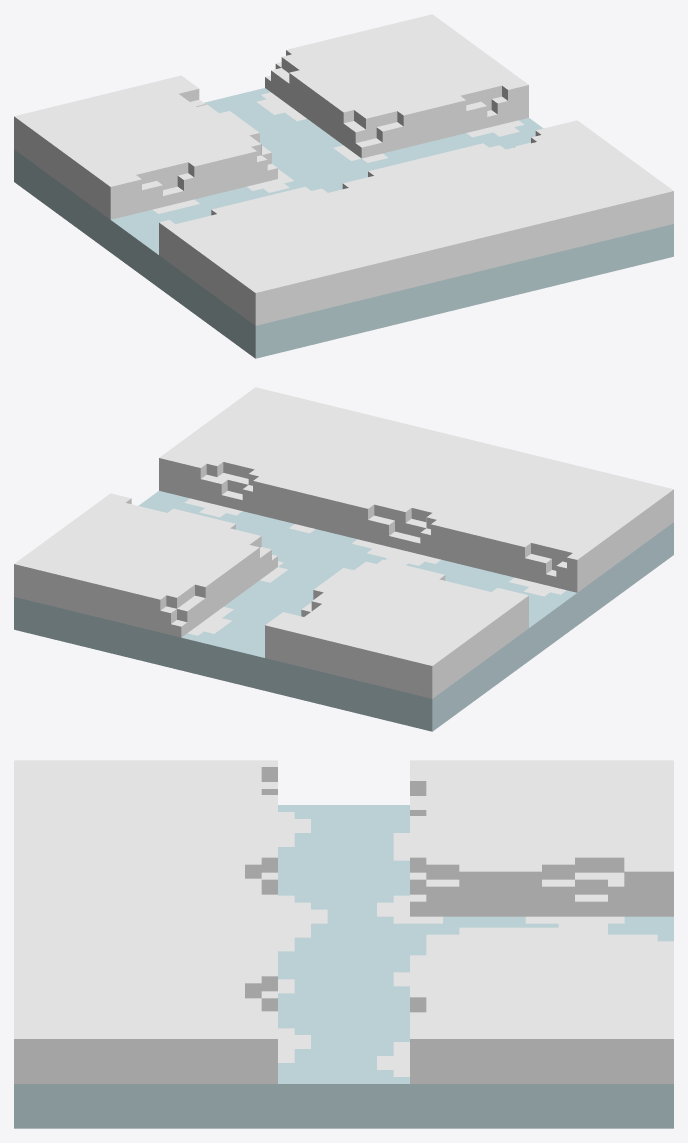
File: Splitting Path Polar Tile 1.obj
The picture shows the model from 3 angles, top to bottom: view 1: azimuth 30°, elevation 25°; view 2: azimuth 150°, elevation 25°; view 3: azimuth 270°, elevation 25°; orthographic projection. The views are drawn at different scales.
Size of the model in its own units: 8 by 1.2 by 8.
1 material, 1 textured.
